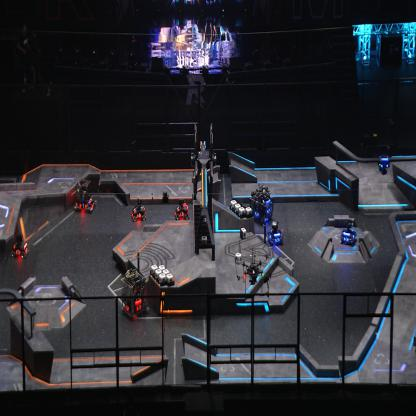car: (119, 268, 150, 320), (249, 184, 273, 224), (73, 178, 97, 213), (340, 219, 358, 247), (10, 233, 29, 259), (129, 198, 147, 222), (173, 196, 190, 221), (268, 220, 284, 246)
